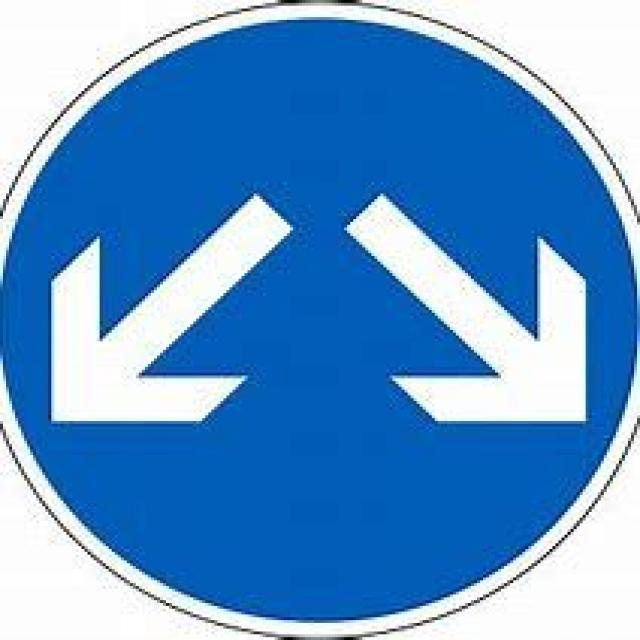pass either side: (20, 19, 628, 623)
